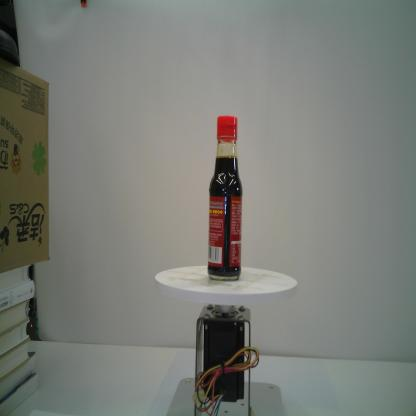Seasoner: (207, 115, 243, 282)
